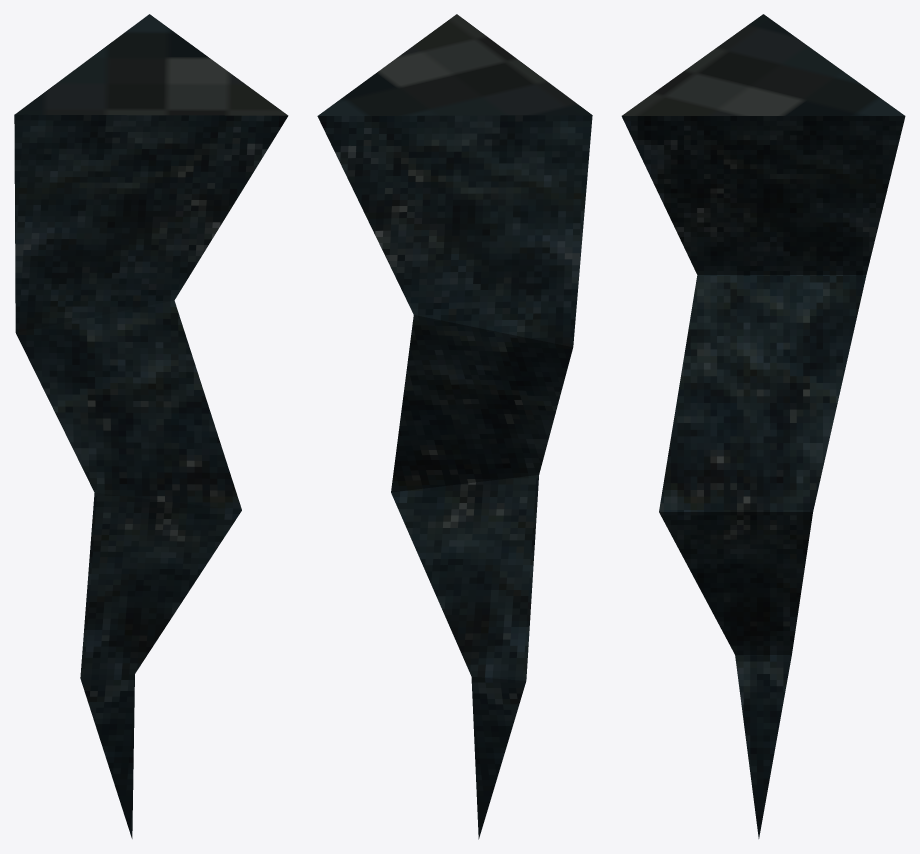
File: Stalactite.fbx
3 renders of one model, left to right at view 1: azimuth 30°, elevation 25°; view 2: azimuth 150°, elevation 25°; view 3: azimuth 270°, elevation 25°, orthographic. The views are drawn at different scales.
Visible parts, largest first — view 1: Cube; view 2: Cube; view 3: Cube.
Part boxes in pixels (left/top/right/bottom): Cube: left=14, top=14, right=288, bottom=838; Cube: left=317, top=14, right=592, bottom=839; Cube: left=621, top=14, right=905, bottom=838.
Bounding box in the file's own units: 200 × 702 × 235.
